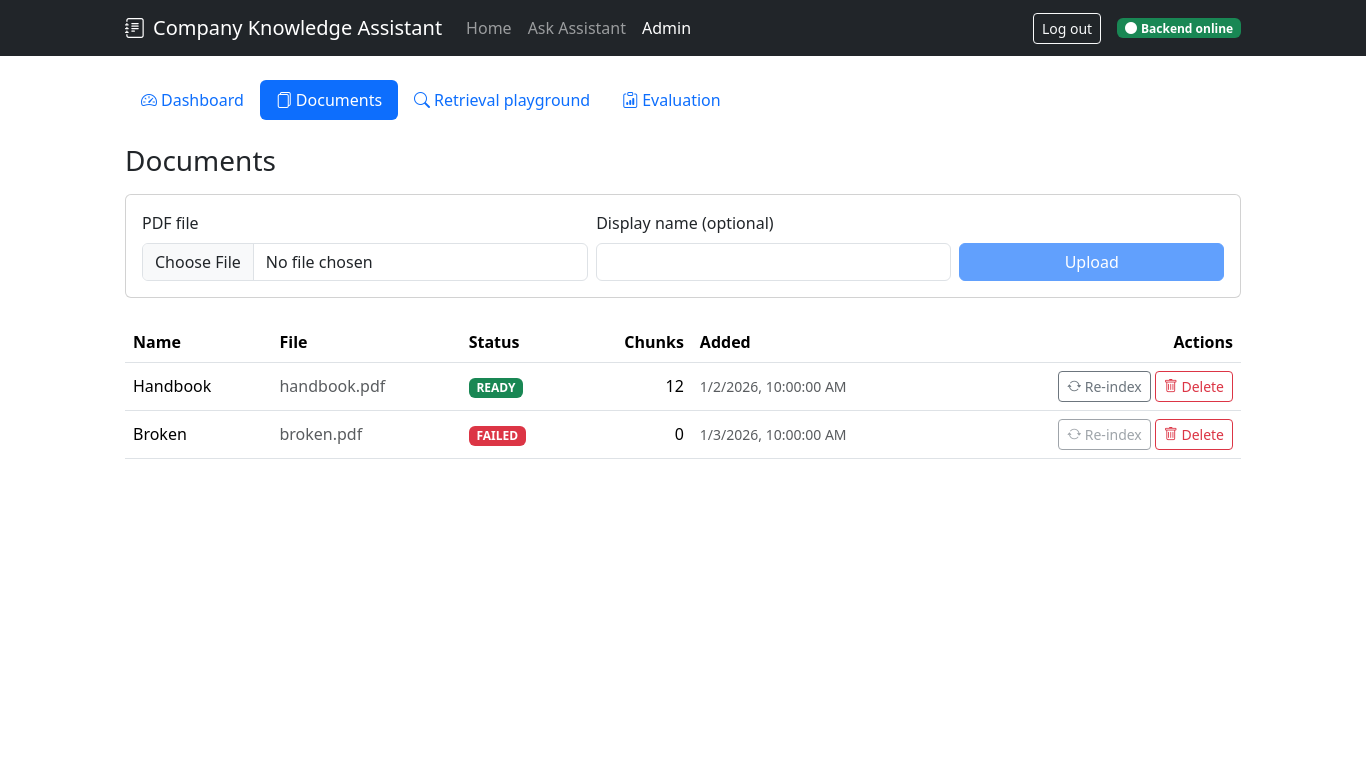
Scenario: admin panel › document management › re-indexes a document
Click the button with aria-label "Re-index Handbook" at (1104, 386), box [1058,371,1151,402]
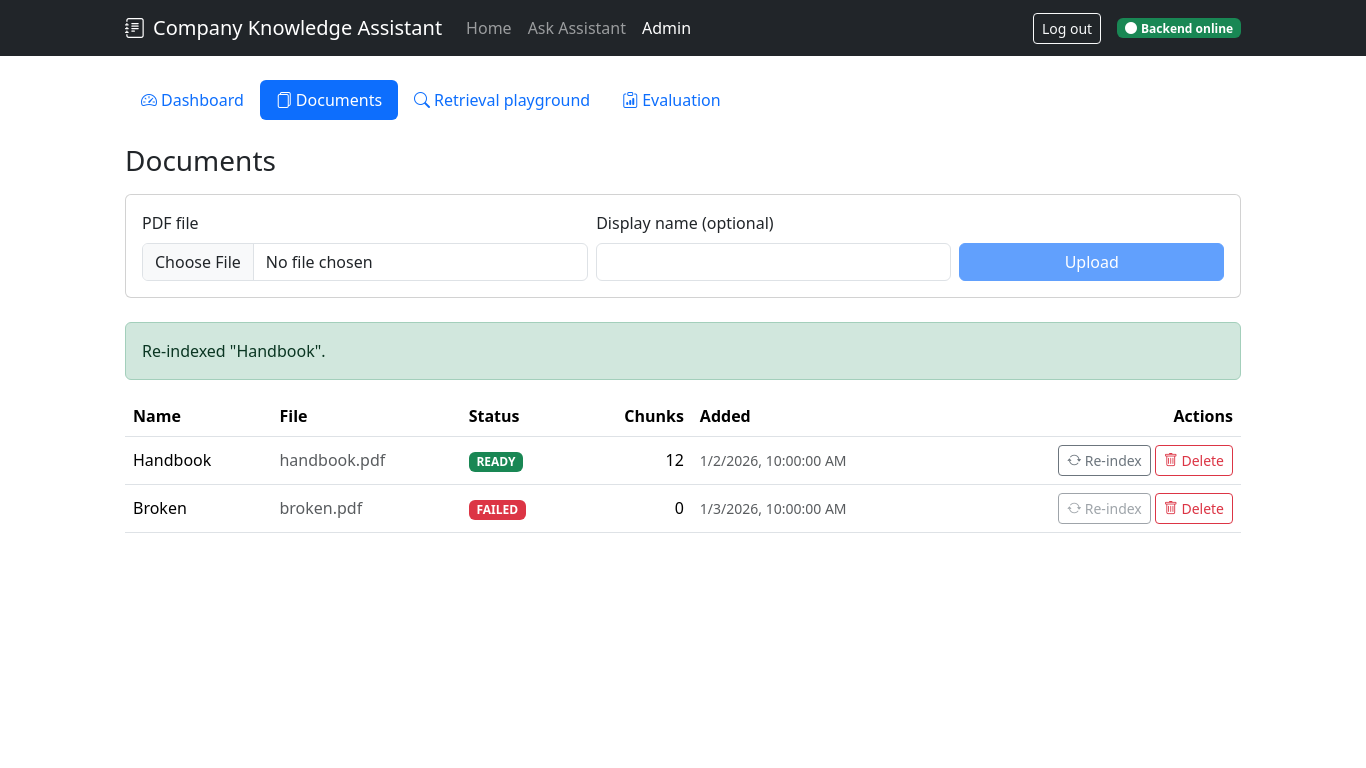
expect the button with aria-label "Re-index Broken" is disabled: met, box [1058,493,1151,524]
expect the text "Re-indexed \"Handbook\"." is shown: met, box [125,322,1241,380]
